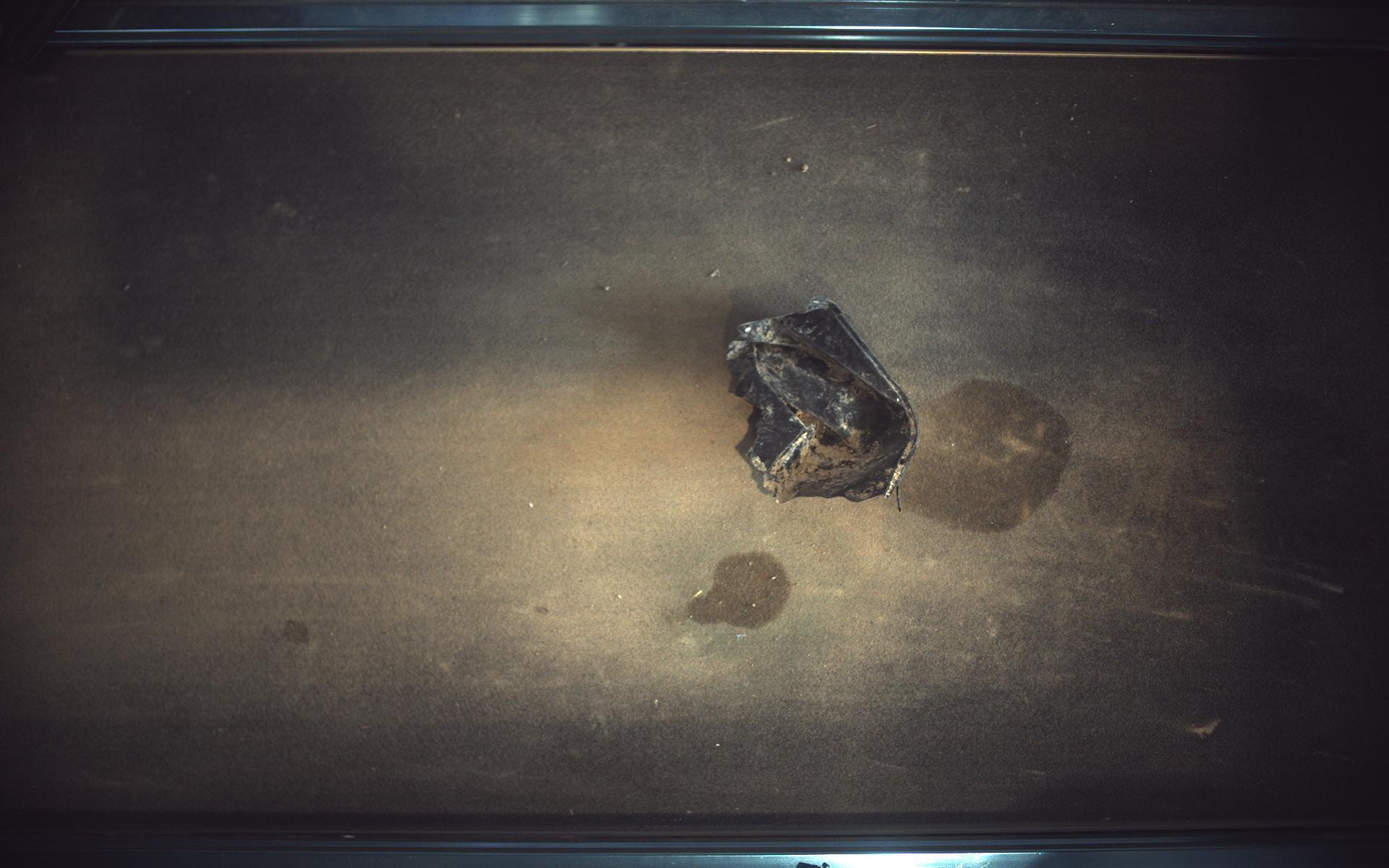general_w: (728, 298, 920, 501)
